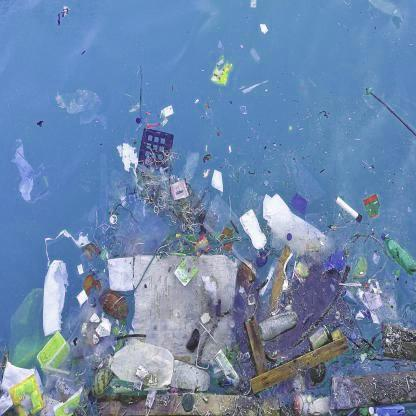Glass: (308, 324, 332, 352)
Plastic: (382, 228, 416, 277), (254, 309, 300, 344), (240, 209, 268, 250), (364, 403, 404, 415)
Trash: (40, 256, 71, 341), (292, 391, 323, 416), (117, 144, 137, 180), (211, 54, 233, 82), (362, 197, 380, 218)
